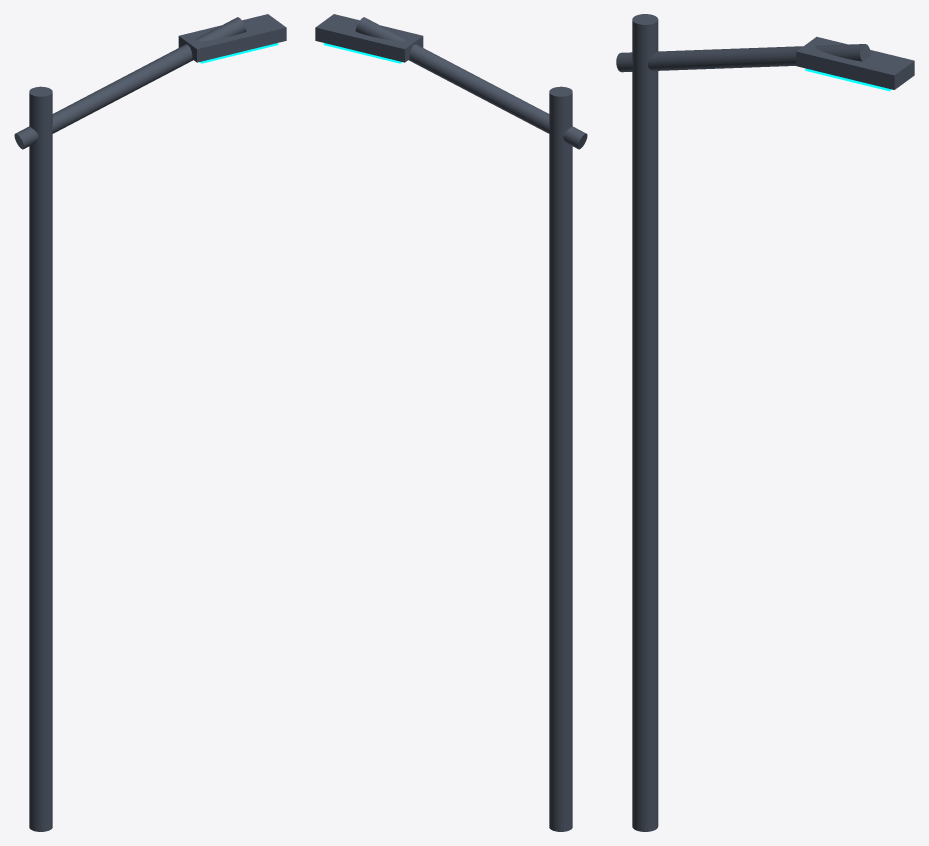
File: streetlight.glb
3 renders of one model, left to right at view 1: azimuth 30°, elevation 25°; view 2: azimuth 150°, elevation 25°; view 3: azimuth 330°, elevation 25°, orthographic. The views are drawn at different scales.
Visible parts, largest first — view 1: Prop_Streetlight; view 2: Prop_Streetlight; view 3: Prop_Streetlight.
Part boxes in pixels (box(x1,y1,x2,y2)): Prop_Streetlight: box(14, 14, 286, 831); Prop_Streetlight: box(315, 14, 587, 831); Prop_Streetlight: box(616, 14, 914, 831).
Size of the model in its own units: 2.03 by 5.69 by 0.25.
